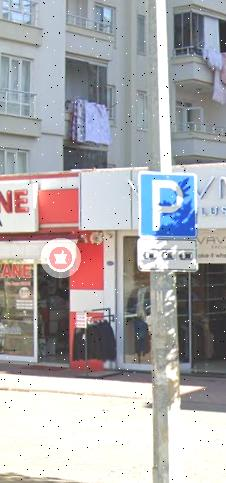park: (135, 167, 202, 240)
